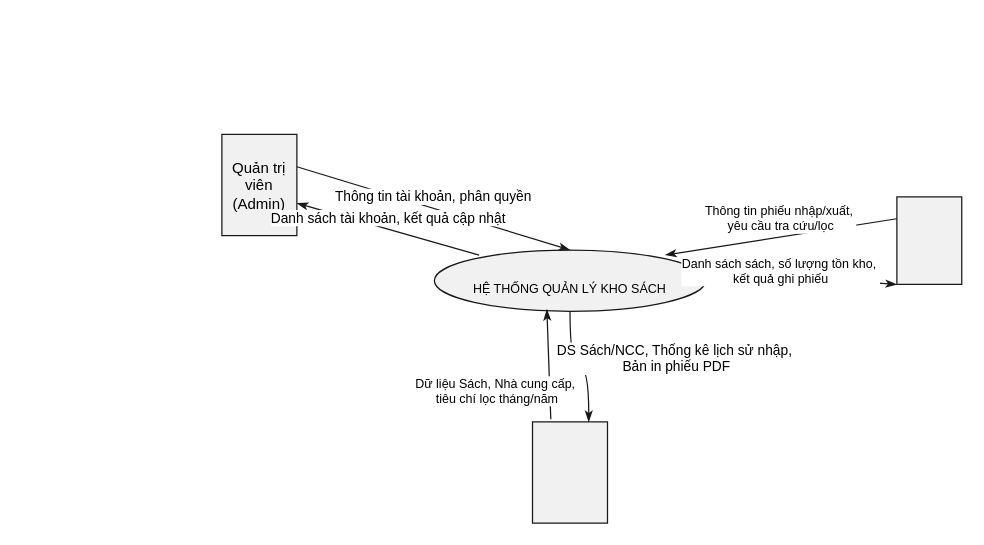
Some shapes in this 984 by 545 pixel diagram are drawn without their labels. Here are the shapes that lost their labels. From the top down, the centre of each, then its label:
(x=929, y=240): Nhân viên kho (B3)
(x=569, y=472): Quản lý kho (B4)
